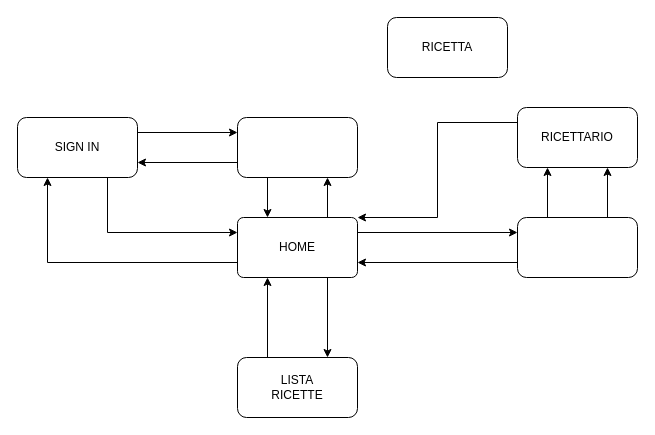
This 655x435 diagram has some shape labels left out. The centre of each missing label's shape, as x and y in pixels:
"LOGIN" belongs at pixel 297 147.
"PROFILO" belongs at pixel 577 247.
